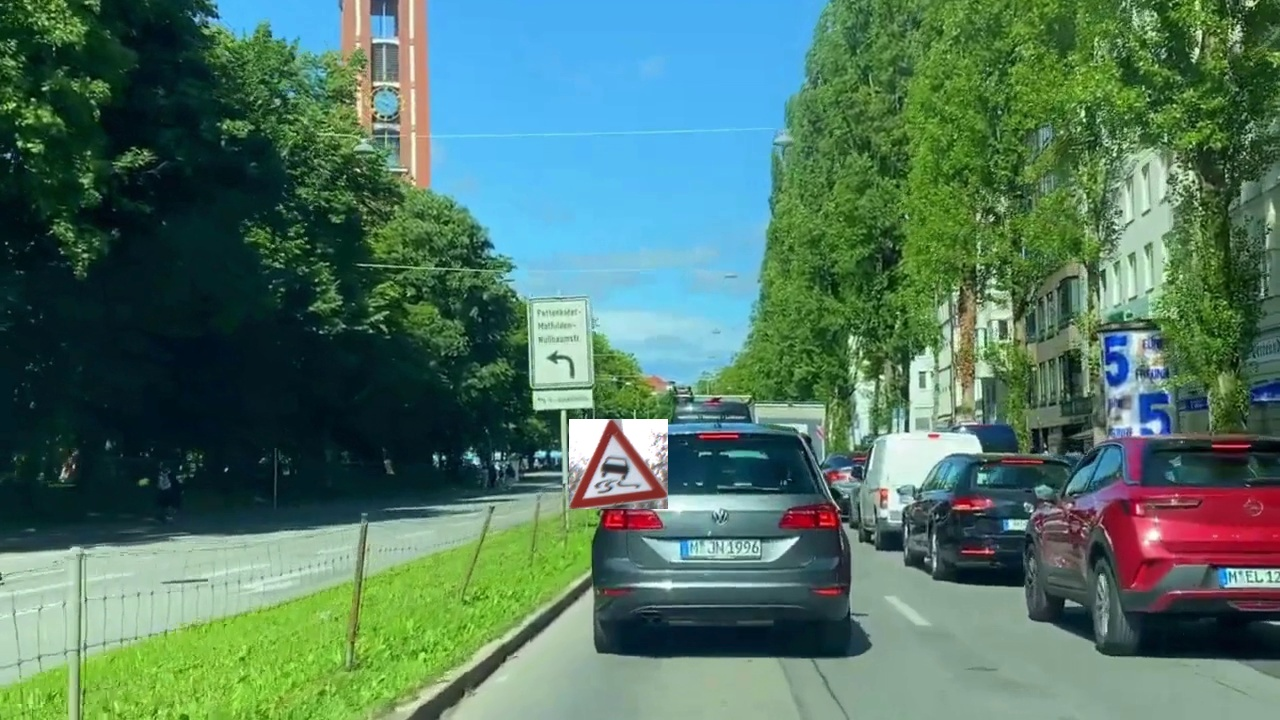Slippery: (569, 419, 668, 509)
